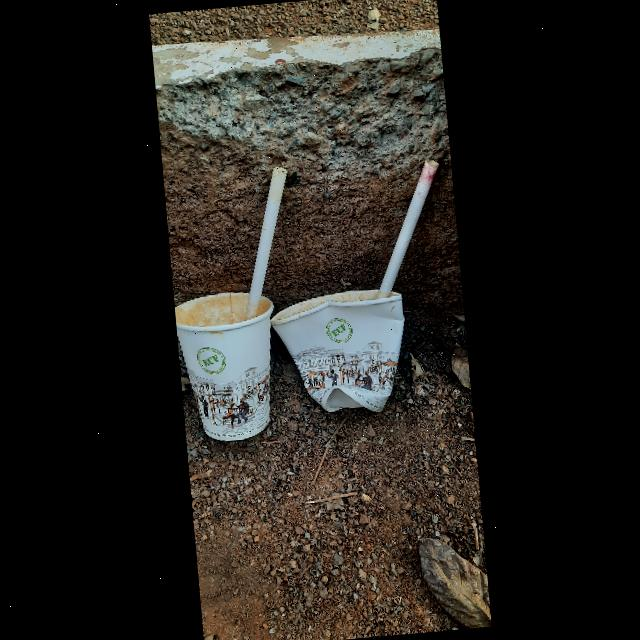trash: (268, 285, 412, 420), (174, 287, 286, 445), (232, 166, 300, 319), (416, 531, 491, 632)
